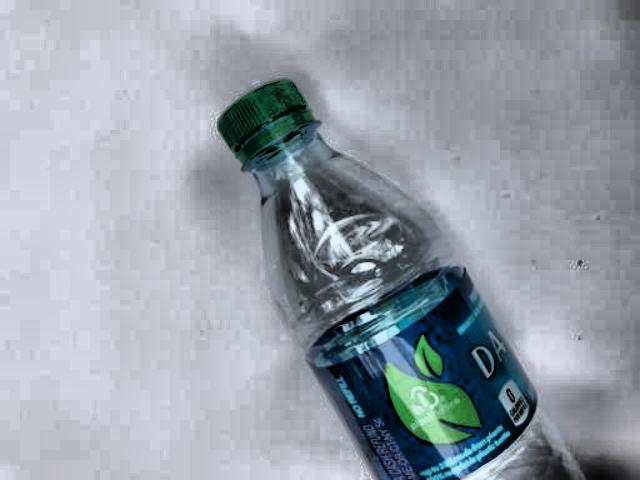Bottles: (206, 67, 596, 480)
